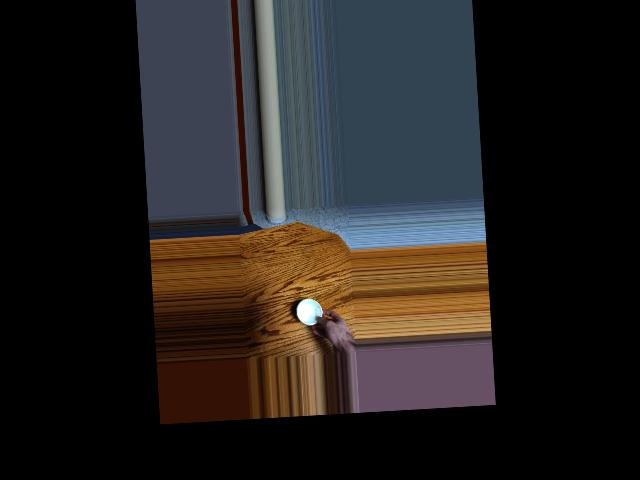cotage: (294, 297, 323, 327)
